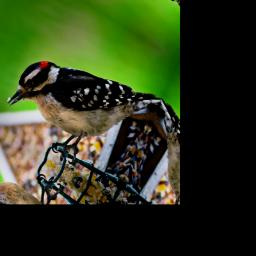Woodpecker: (0, 22, 162, 196)
